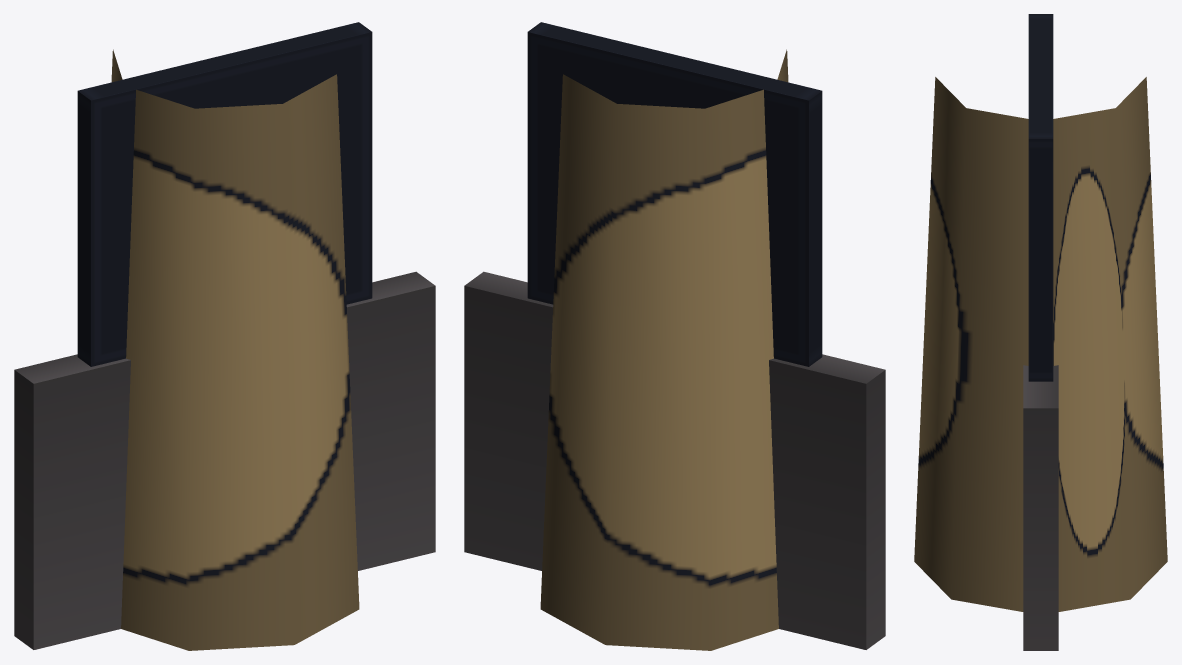
File: KIT_Gate_Portcullis_3.glb
The picture shows the model from 3 angles, left to right: view 1: azimuth 30°, elevation 25°; view 2: azimuth 150°, elevation 25°; view 3: azimuth 270°, elevation 25°; orthographic projection. The views are drawn at different scales.
Visible parts, largest first — view 1: KIT_Gate_Portcullis_3; view 2: KIT_Gate_Portcullis_3; view 3: KIT_Gate_Portcullis_3.
Part boxes in pixels (box(x1,y1,x2,y2)): KIT_Gate_Portcullis_3: box(14, 22, 435, 650); KIT_Gate_Portcullis_3: box(464, 22, 885, 650); KIT_Gate_Portcullis_3: box(914, 14, 1167, 650).
Bounding box in the file's own units: 3 × 3.8 × 1.8.
Materials: 1 (1 with a texture image).
